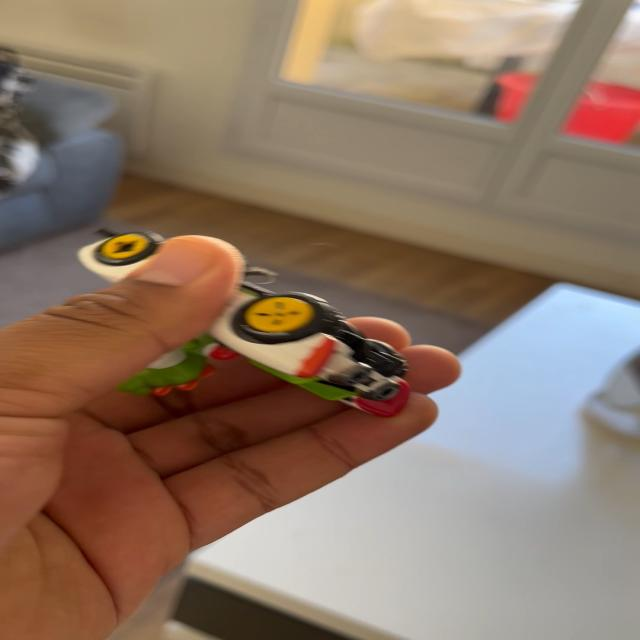yoshi: (55, 207, 432, 424)
